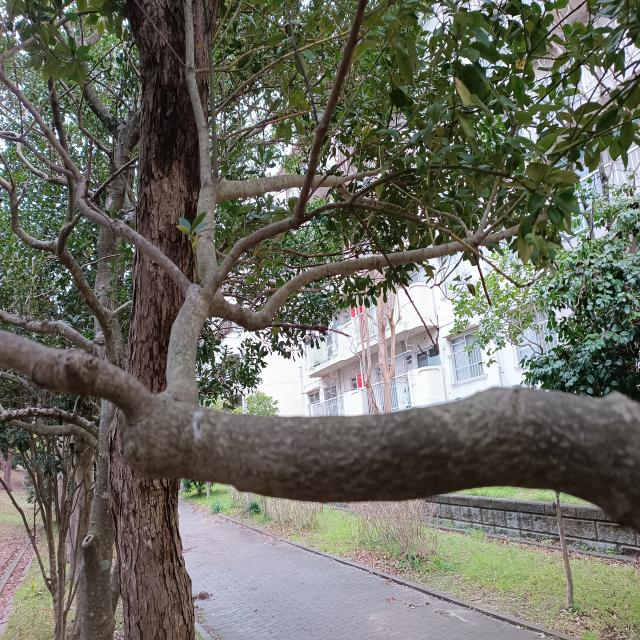Branch: (121, 386, 640, 531), (1, 331, 154, 417), (164, 176, 219, 403)
Twig: (0, 65, 192, 296), (221, 0, 368, 280), (209, 221, 526, 329), (181, 0, 213, 179), (218, 169, 376, 202)
